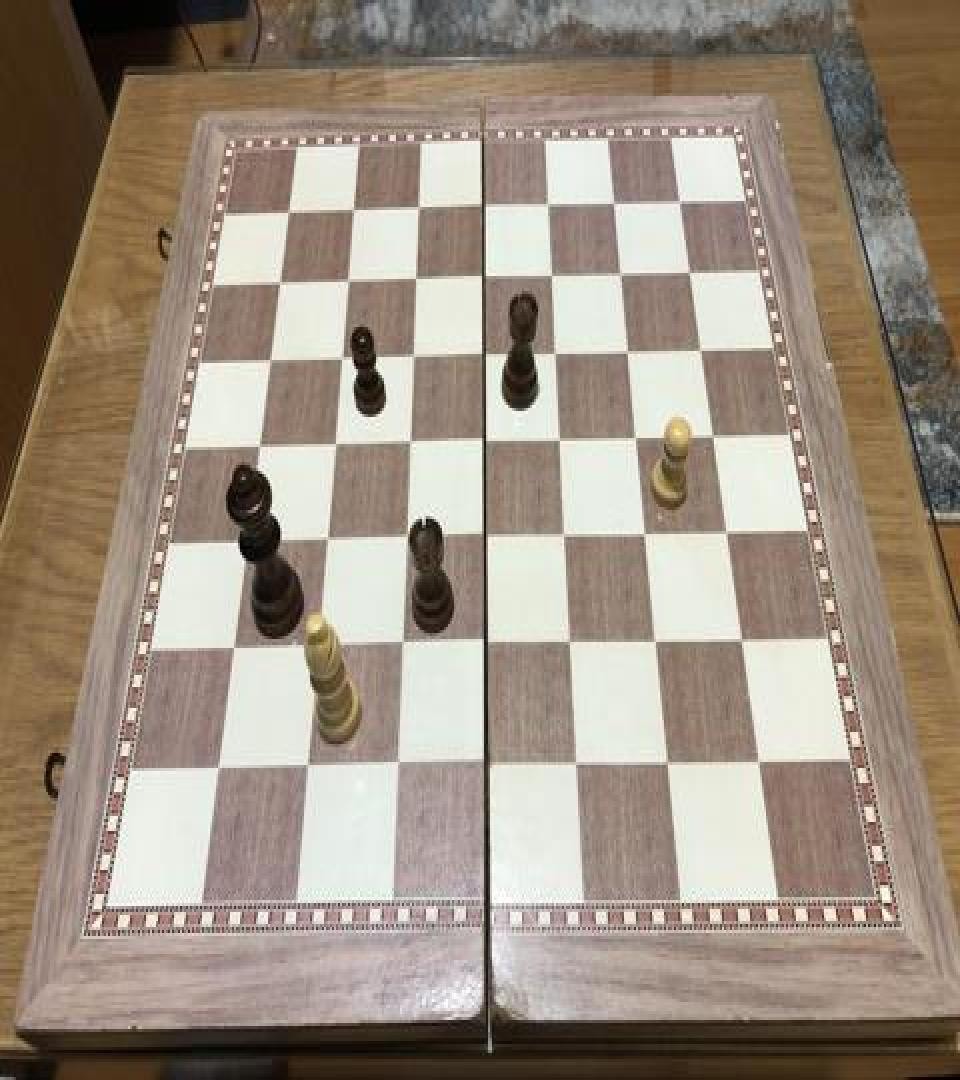xcorner: (635, 514, 659, 551), (395, 520, 419, 557), (646, 622, 670, 659), (476, 625, 500, 662), (223, 631, 247, 668), (751, 742, 775, 779), (477, 748, 501, 785), (667, 183, 691, 219), (602, 186, 626, 222), (472, 190, 496, 226), (408, 194, 432, 230), (344, 195, 368, 231), (280, 198, 304, 234), (677, 254, 701, 290), (609, 255, 633, 291), (541, 258, 565, 294), (405, 262, 429, 298), (338, 266, 362, 302), (271, 267, 295, 303), (689, 330, 713, 366), (617, 332, 641, 368), (545, 334, 569, 370), (473, 338, 497, 374), (402, 339, 426, 375), (332, 342, 356, 378), (702, 416, 726, 452), (625, 418, 649, 454), (550, 420, 574, 456), (474, 423, 498, 459), (399, 424, 423, 460), (324, 428, 348, 464), (250, 429, 274, 465), (716, 512, 740, 548), (555, 516, 579, 552), (475, 518, 499, 554), (316, 522, 340, 558), (238, 525, 262, 561), (733, 620, 757, 656), (561, 624, 585, 660), (391, 628, 415, 664), (307, 630, 331, 666), (659, 746, 683, 782), (568, 747, 592, 783), (387, 750, 411, 786), (297, 752, 321, 788), (208, 753, 232, 789), (537, 188, 561, 223), (473, 260, 497, 295), (261, 344, 285, 379)
